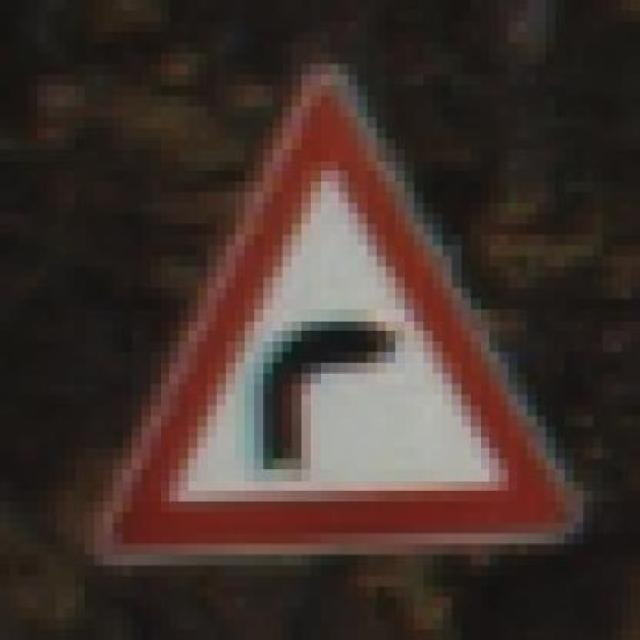Dangerous Rright Curve Ahead: (75, 74, 593, 566)
